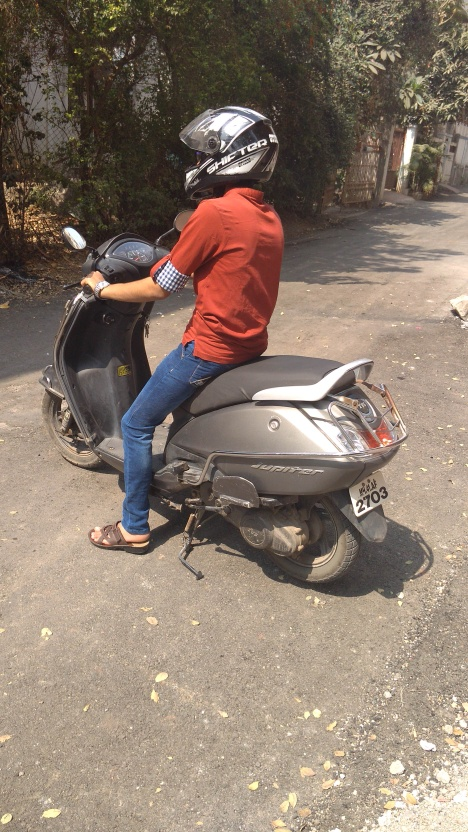helmet: (178, 104, 283, 194)
